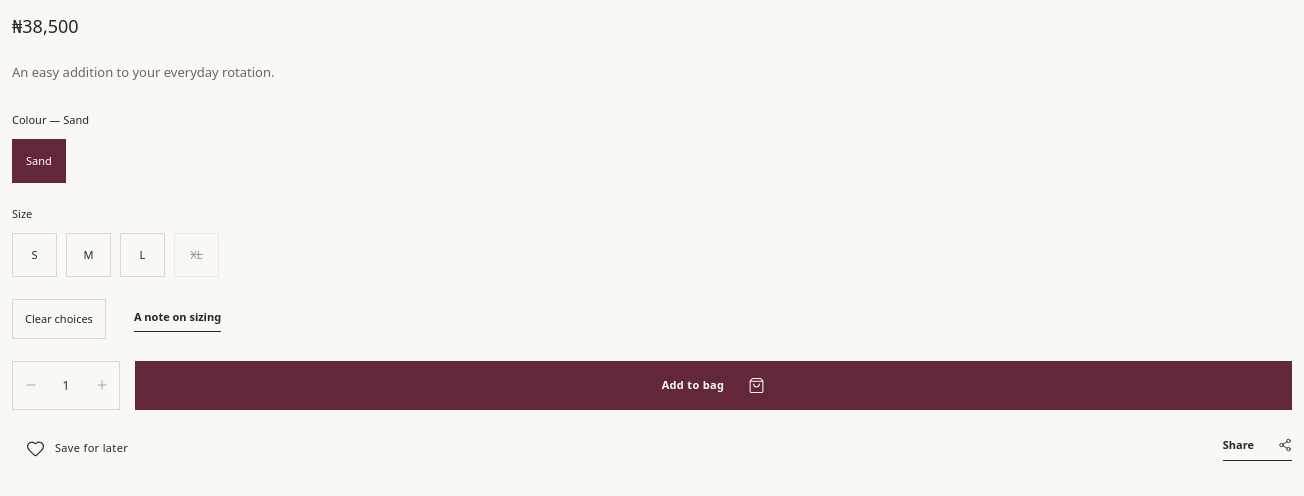
Scenario: product options › requires selection and disables sold-out sizes
The width and height of the screenshot is (1304, 496).
Expected: the button with aria-label "Size: XL (sold out)" is disabled, [174,233,219,277]
Click the button "Add to bag" at {"x": 714, "y": 385}, box [135,361,1292,410]
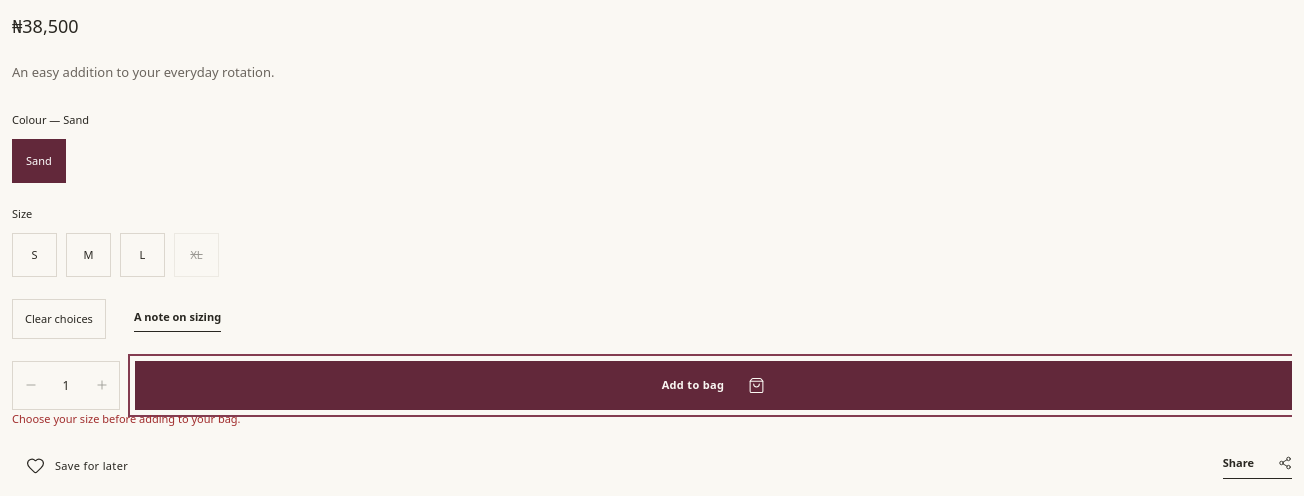
Result: the message shows "Choose your size" at [12,410,241,426]
